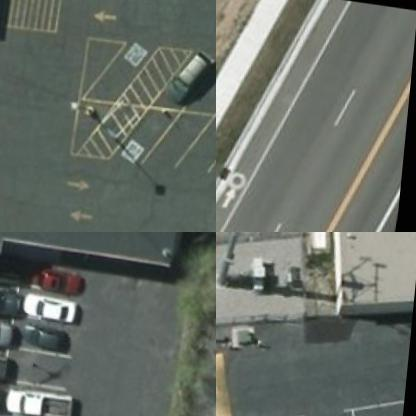car: (165, 41, 215, 102), (18, 322, 82, 358), (36, 269, 100, 305), (27, 292, 92, 327), (13, 387, 78, 415), (0, 290, 25, 320), (0, 321, 20, 351), (0, 353, 17, 384), (0, 386, 12, 415)
